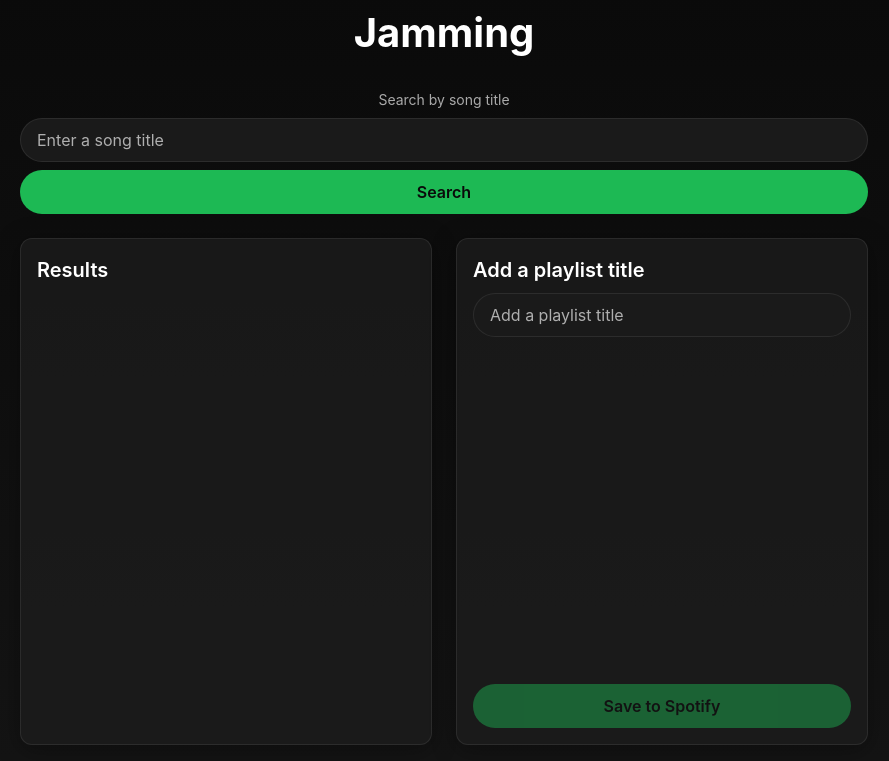
clears search API error when the user types again
Type "test" into the field with test id "search-by-input".
click(444, 140); type("test")  # box [20,118,868,162]
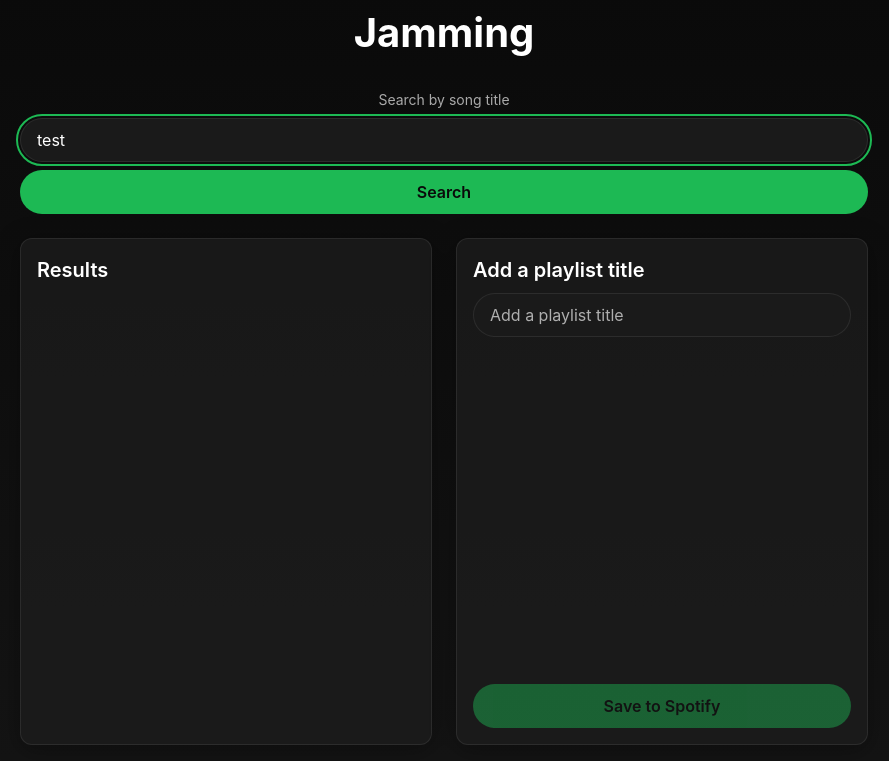
Click the button with test id "search-button".
click(444, 192)  # box [20,170,868,214]
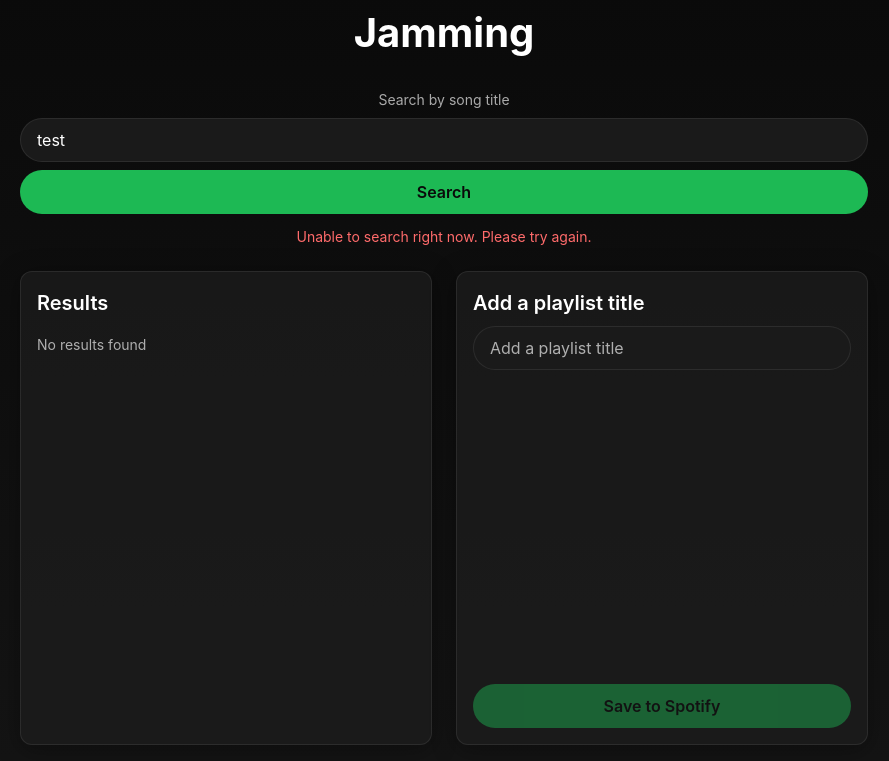
expect the message "Unable to search right now. Please try again." is shown: met, box [296,228,592,245]
Type "x" into the field with test id "search-by-input".
click(444, 140); type("x")  # box [20,118,868,162]
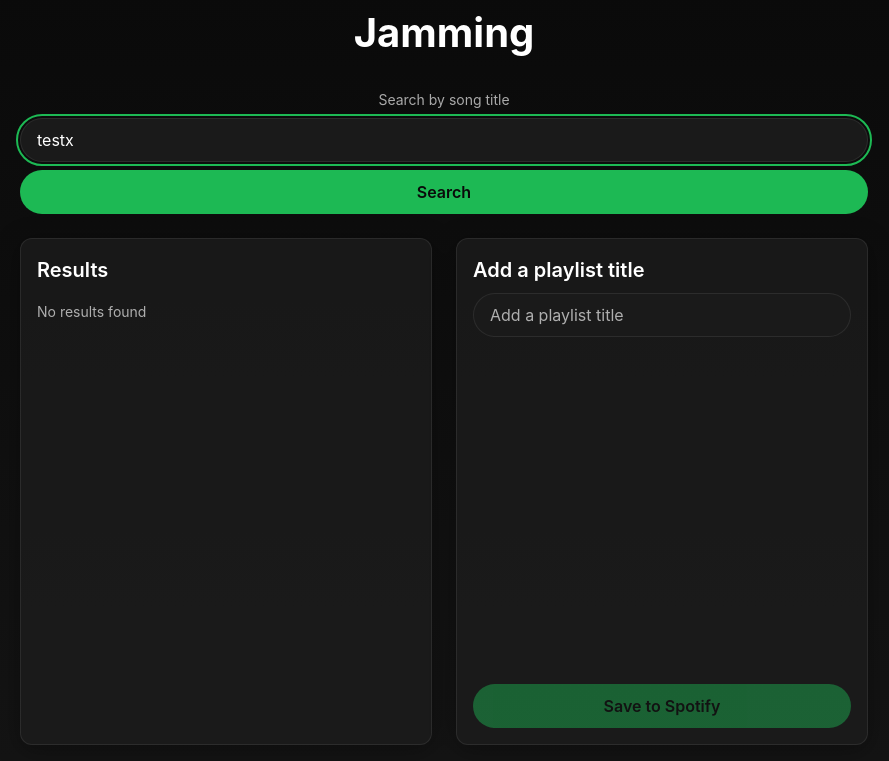
expect the message with test id "search-api-error" is gone: met
